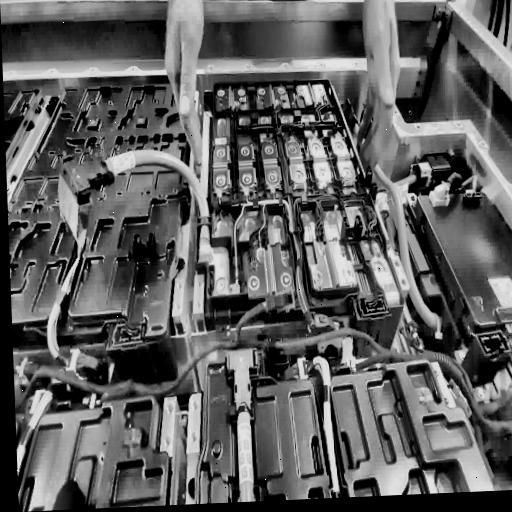high_volt_cable: (342, 99, 447, 339), (48, 137, 215, 264), (231, 367, 259, 502)
low_volt_cable: (14, 324, 512, 449), (270, 110, 347, 498), (16, 250, 81, 498)
